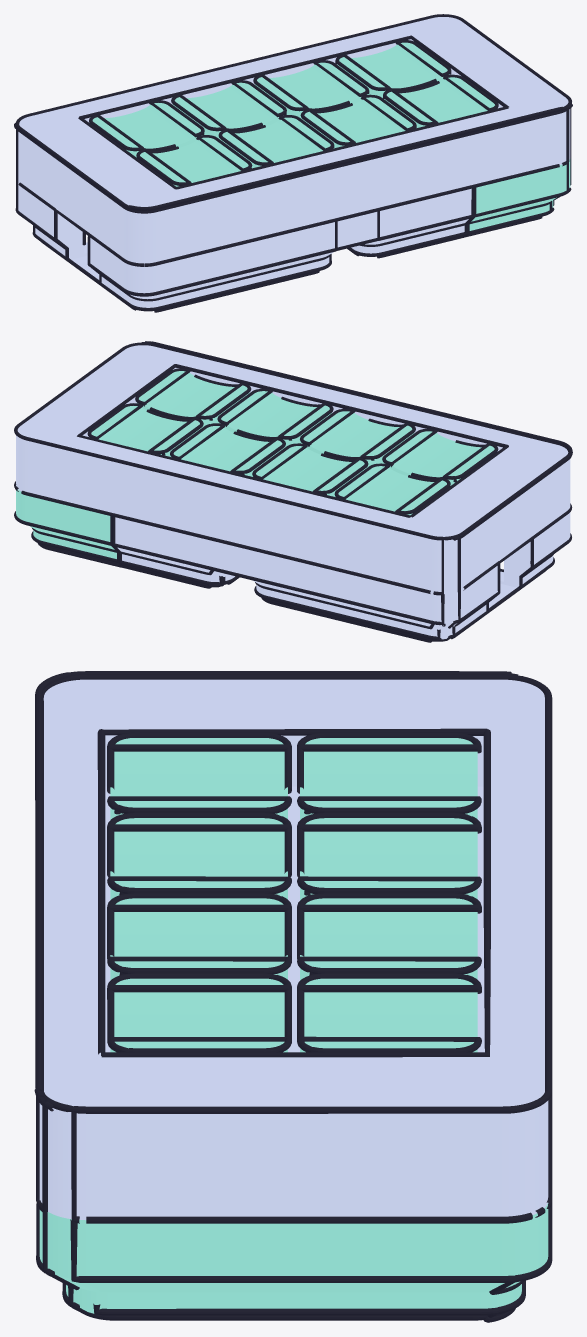
File: pocket-kb.glb
3 views of the same model, one above another, from view 1: azimuth 30°, elevation 25°; view 2: azimuth 150°, elevation 25°; view 3: azimuth 270°, elevation 25° (orthographic). The views are drawn at different scales.
Visible parts, largest first — view 1: base.002, Cube, base.001, front-lines, LineArt, base-front; view 2: base.002, front-lines, Cube, base.001, LineArt, base-front; view 3: base.002, Cube, front-lines, base-front, LineArt.
Part boxes in pixels (x1,y1,x2,y2): base.002: [18, 17, 570, 264]; Cube: [92, 42, 494, 186]; base.001: [18, 182, 471, 307]; front-lines: [15, 14, 571, 211]; LineArt: [14, 103, 572, 312]; base-front: [469, 159, 570, 230]; base.002: [16, 345, 570, 593]; front-lines: [14, 342, 569, 640]; Cube: [91, 371, 494, 515]; base.001: [115, 512, 570, 639]; LineArt: [37, 341, 572, 642]; base-front: [16, 489, 116, 558]; base.002: [39, 679, 548, 1220]; Cube: [110, 738, 477, 1052]; front-lines: [41, 674, 552, 1317]; base-front: [39, 1203, 548, 1313]; LineArt: [34, 671, 522, 1322].
Bounding box in the file's own units: 84.33 × 21.17 × 42.27.
